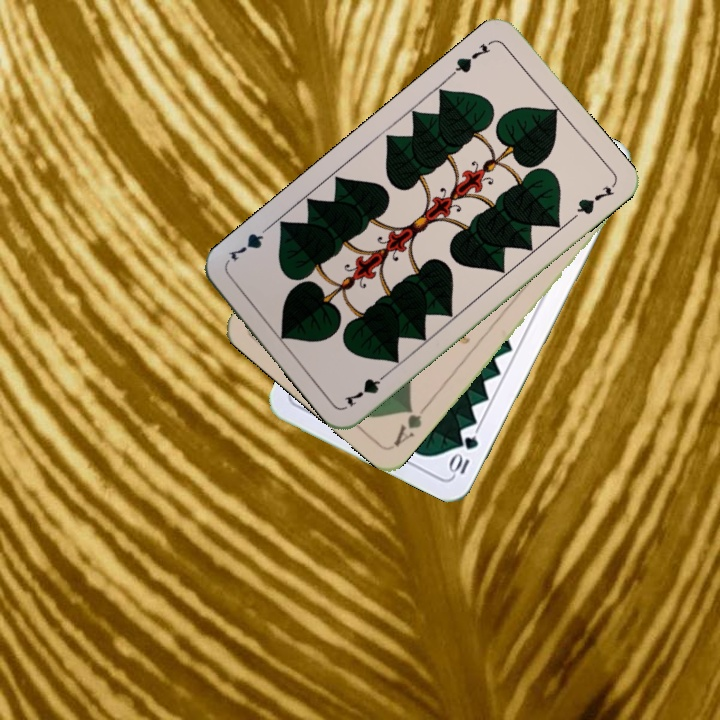G10: (446, 432, 481, 478)
G7: (340, 366, 393, 410), (446, 36, 496, 79)
GA: (389, 399, 431, 450)
